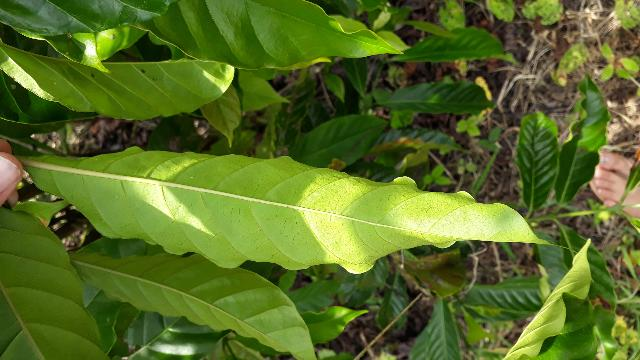healthy: (19, 140, 584, 277)
